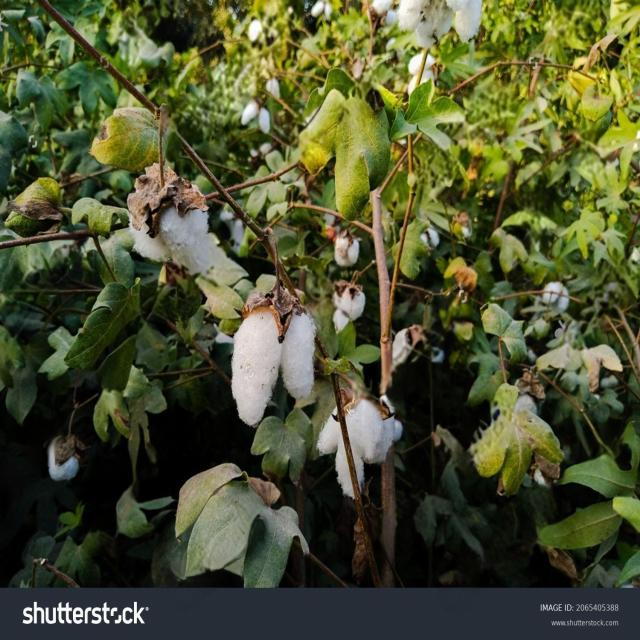Leaf: (219, 237, 322, 439), (109, 180, 218, 283), (43, 423, 83, 490), (330, 217, 367, 266), (334, 283, 374, 320)
